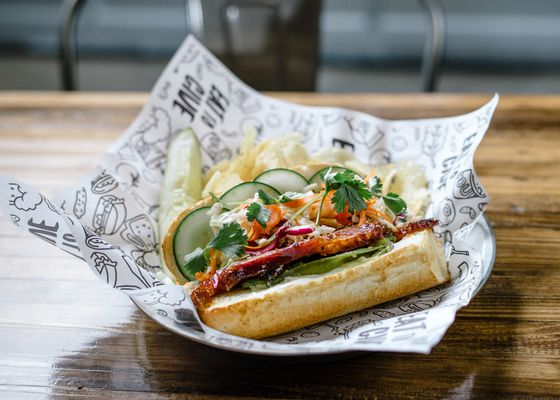soup: (171, 133, 451, 340)
